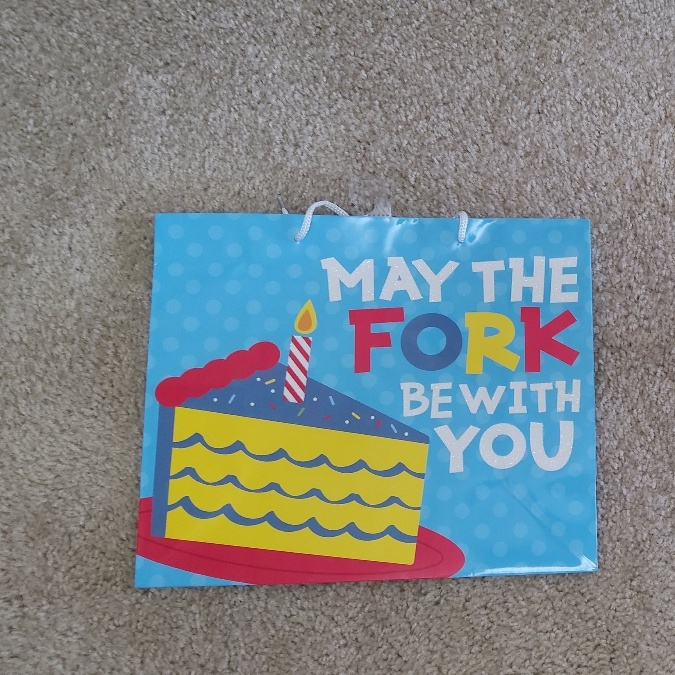paper_bag: (154, 213, 597, 581)
